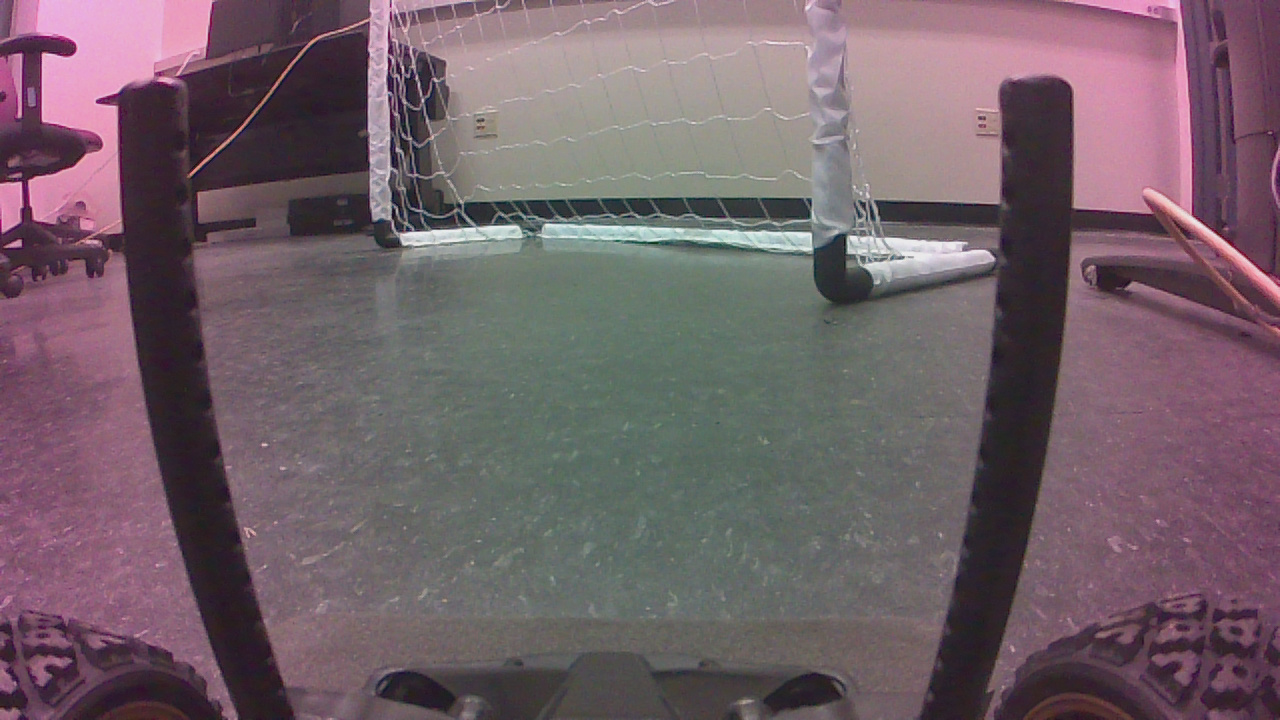goal: (370, 3, 1003, 312)
